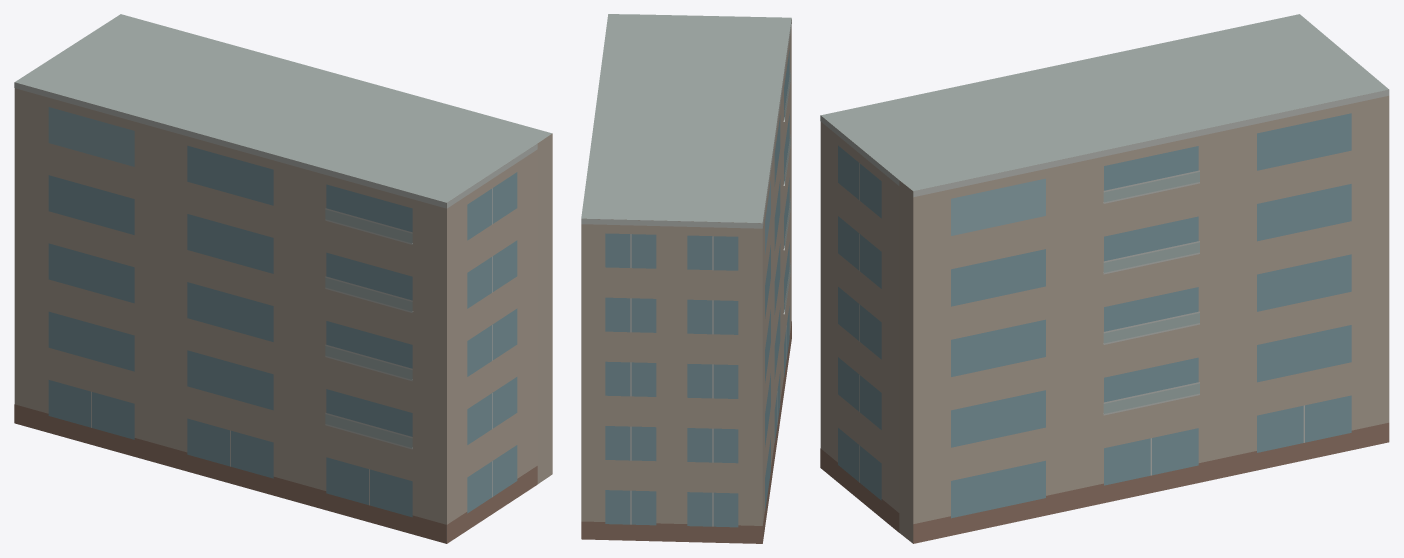
The model's file is survey-upis-32719888.glb.
3 views of the same model, side by side, from view 1: azimuth 30°, elevation 25°; view 2: azimuth 150°, elevation 25°; view 3: azimuth 270°, elevation 25° (orthographic). The views are drawn at different scales.
Parts seen in each view (by area): view 1: survey-upis-32719888.tmp; view 2: survey-upis-32719888.tmp; view 3: survey-upis-32719888.tmp.
Part boxes in pixels (x1,y1,x2,y2): survey-upis-32719888.tmp: (14, 14, 552, 543); survey-upis-32719888.tmp: (581, 14, 791, 543); survey-upis-32719888.tmp: (820, 14, 1389, 543).
Bounding box in the file's own units: 15.26 × 14.15 × 20.69.
